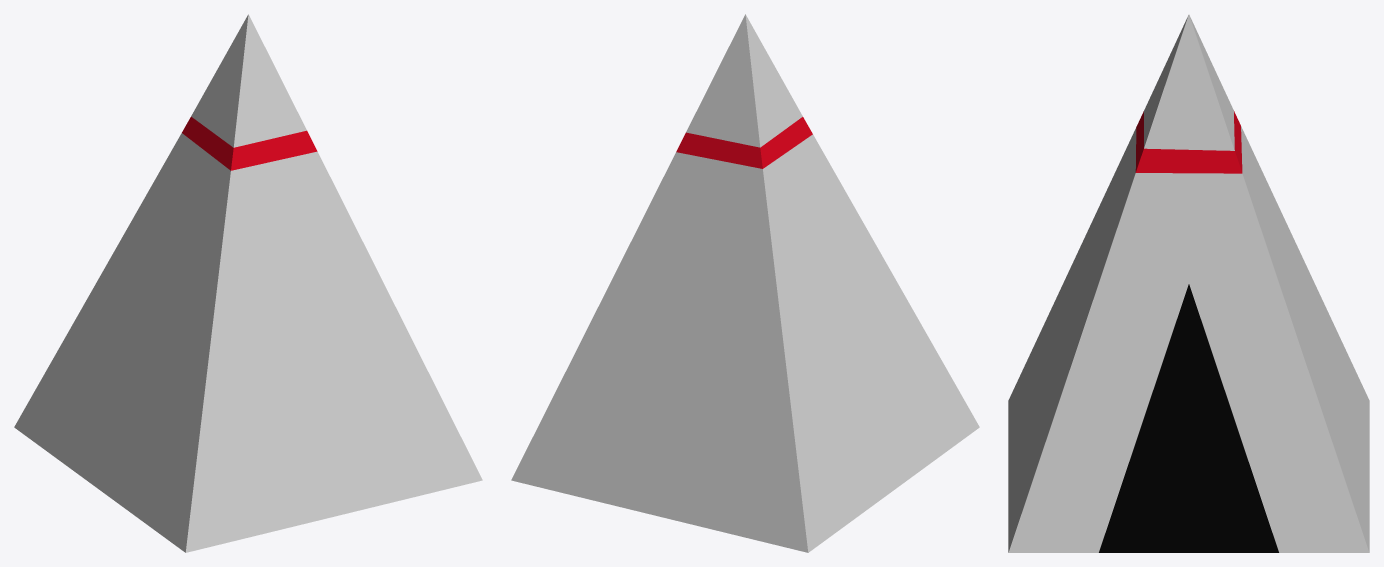
The model's file is tent.glb.
The picture shows the model from 3 angles, left to right: view 1: azimuth 30°, elevation 25°; view 2: azimuth 150°, elevation 25°; view 3: azimuth 270°, elevation 25°; orthographic projection. The views are drawn at different scales.
Parts seen in each view (by area): view 1: Cone; view 2: Cone; view 3: Cone.
Part boxes in pixels (<box>): Cone: <box>14,14,482,552</box>; Cone: <box>511,14,979,552</box>; Cone: <box>1008,14,1369,552</box>.
Bounding box in the file's own units: 1.41 × 2 × 1.41.
